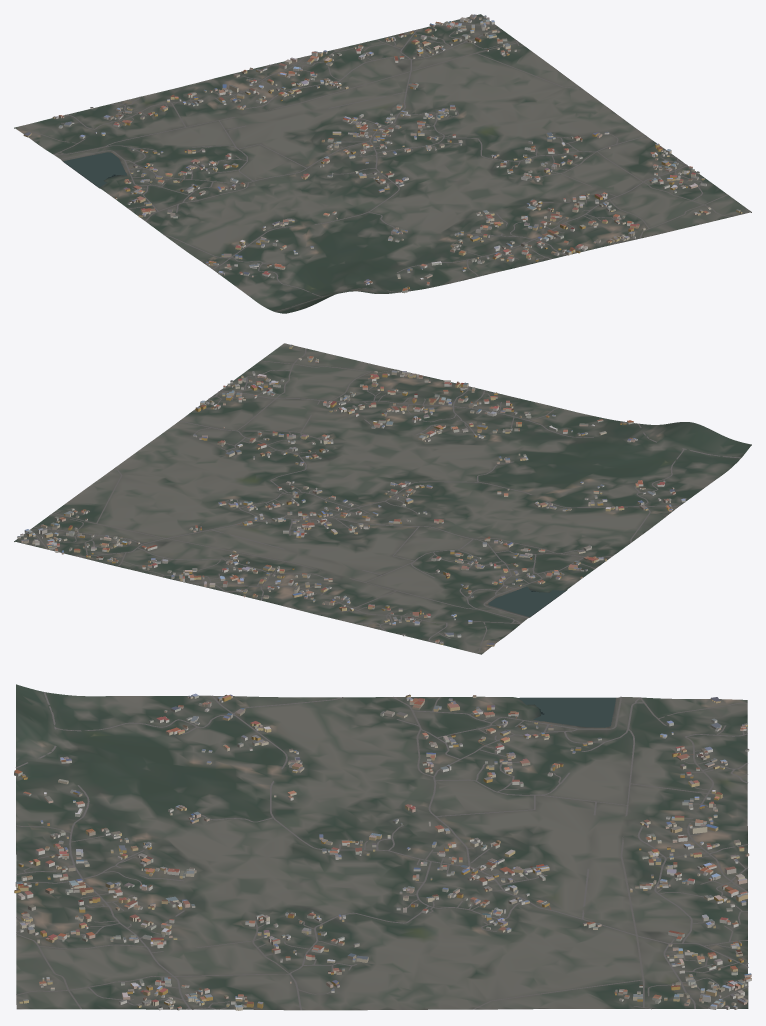
The picture shows the model from 3 angles, top to bottom: view 1: azimuth 30°, elevation 25°; view 2: azimuth 150°, elevation 25°; view 3: azimuth 270°, elevation 25°; orthographic projection. The views are drawn at different scales.
Visible parts, largest first — view 1: ground, buildings, roads, water; view 2: ground, buildings, roads, water; view 3: ground, buildings, roads, water.
Boxes of the visible parts, bbox=[...] form: ground: bbox=[14, 14, 751, 313]; buildings: bbox=[23, 14, 742, 293]; roads: bbox=[19, 23, 730, 311]; water: bbox=[63, 152, 126, 187]; ground: bbox=[14, 343, 751, 654]; buildings: bbox=[17, 344, 686, 646]; roads: bbox=[33, 348, 741, 653]; water: bbox=[488, 586, 564, 616]; ground: bbox=[16, 684, 748, 1010]; buildings: bbox=[14, 693, 751, 1010]; roads: bbox=[15, 692, 748, 1010]; water: bbox=[519, 697, 615, 727].
Size of the model in its own units: 1407 by 62.8 by 1414.
